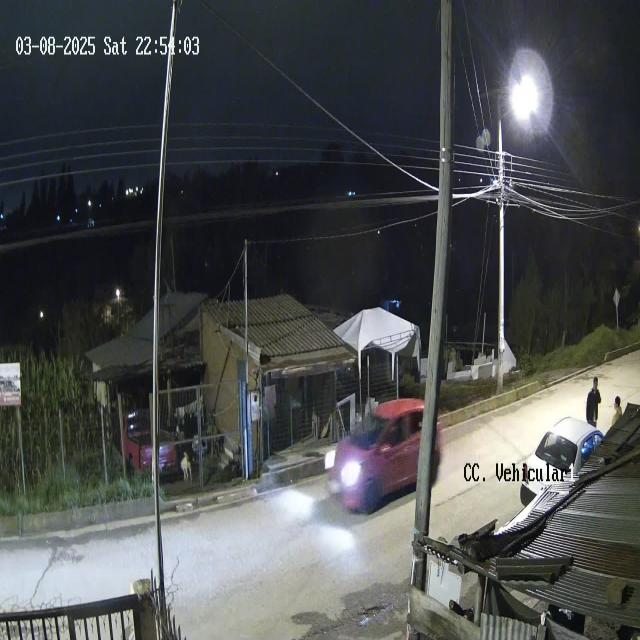SED: (324, 395, 442, 510)
